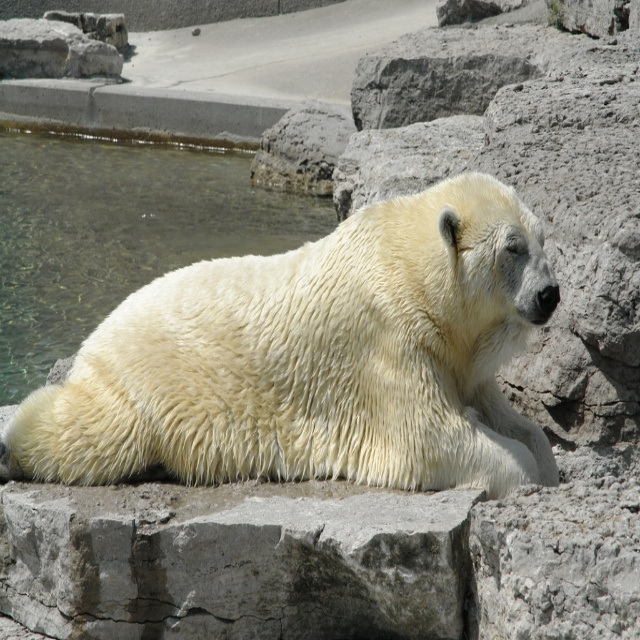Polar bear: (0, 169, 561, 502)
